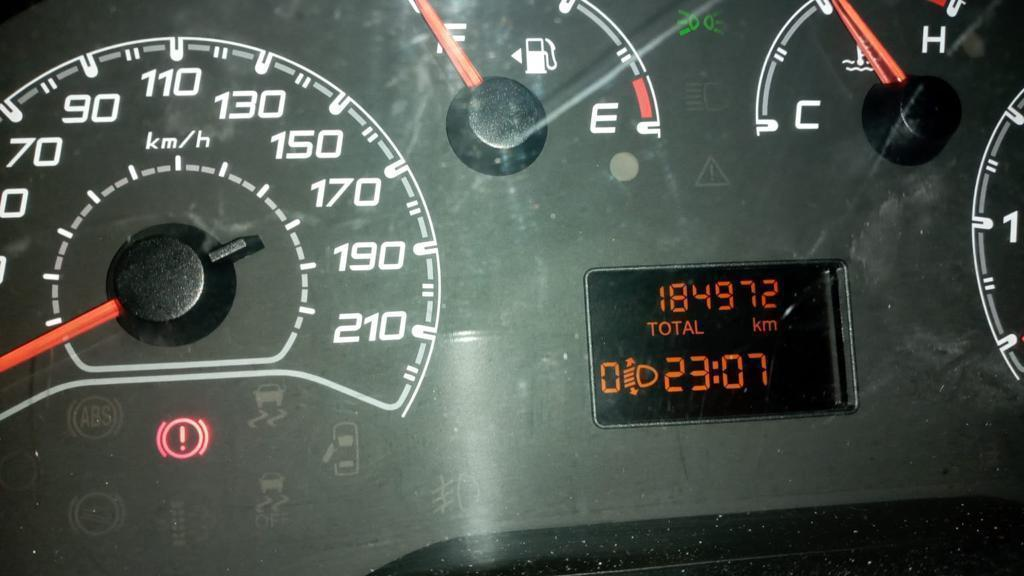0: (720, 353, 744, 389), (599, 361, 621, 394)
1: (658, 285, 665, 312)
2: (663, 356, 685, 393), (761, 278, 778, 308)
3: (688, 354, 710, 392)
4: (691, 283, 711, 310)
7: (747, 352, 768, 387), (739, 279, 757, 307)
8: (668, 282, 688, 313)
9: (714, 280, 735, 311)
X: (644, 321, 658, 337), (711, 360, 720, 384), (658, 320, 671, 336), (670, 319, 682, 336), (681, 320, 694, 335), (762, 319, 777, 332), (694, 319, 705, 335), (752, 316, 762, 332)
odometer: (582, 257, 861, 430)
